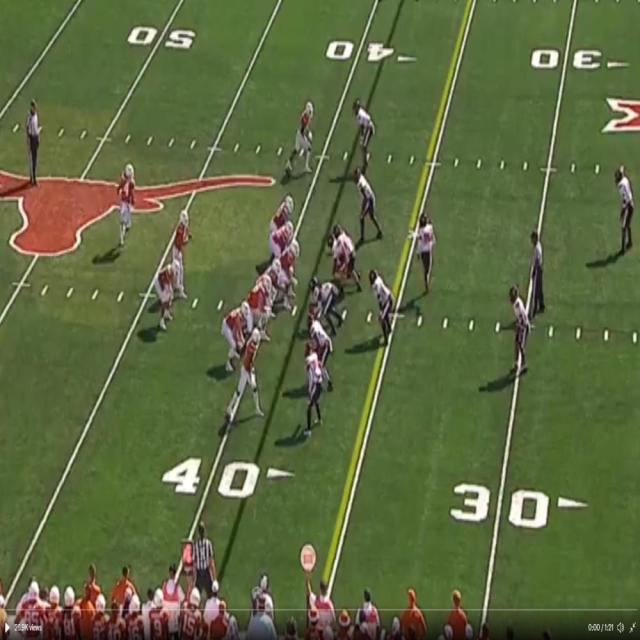center: (277, 252, 298, 310)
db: (513, 286, 530, 368), (619, 167, 635, 249), (306, 342, 322, 423), (356, 104, 374, 162)
lb: (355, 172, 380, 237), (371, 269, 393, 338), (419, 216, 436, 290)
qb: (174, 212, 190, 300)
skill: (223, 300, 247, 376), (244, 312, 262, 400), (118, 168, 138, 242), (294, 101, 312, 172), (156, 255, 172, 323)
